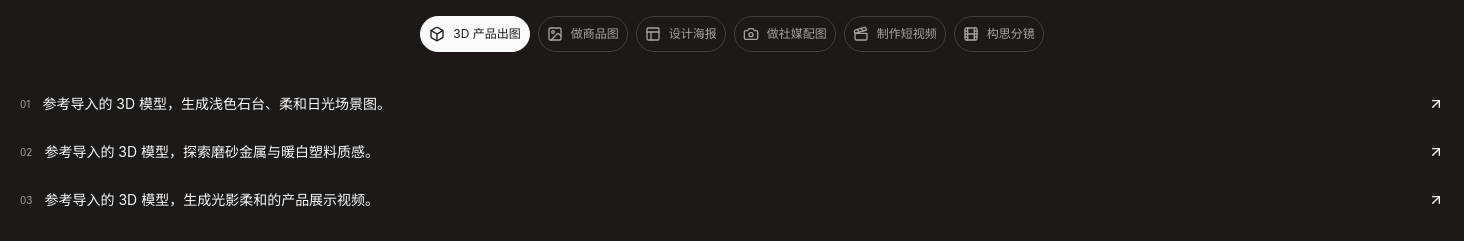
HomeCreationGuide › uses the fixed cross-scene recommendations after deselecting
The image size is (1464, 241).
Click the button "3D 产品出图".
click(475, 34)  # box x1=420 y1=16 x2=530 y2=52
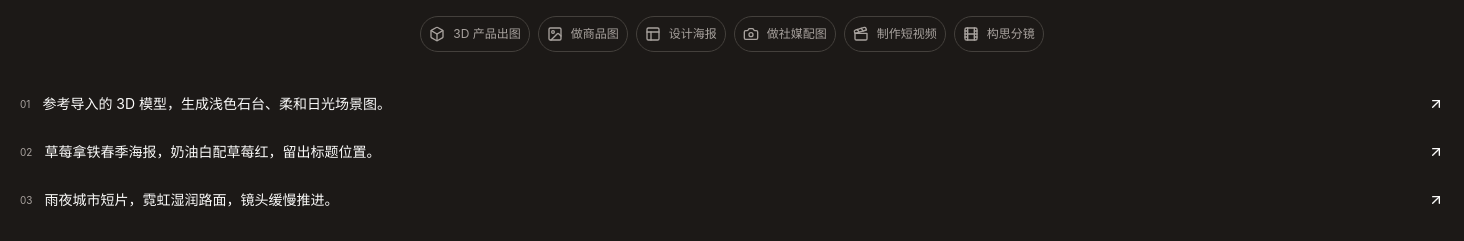
Expected: the button "01 参考导入的 3D 模型，生成浅色石台、柔和日光场景图。" is shown, x1=12 y1=80 x2=1452 y2=128
Expected: the button "02 草莓拿铁春季海报，奶油白配草莓红，留出标题位置。" is shown, x1=12 y1=128 x2=1452 y2=176
Expected: the button "03 雨夜城市短片，霓虹湿润路面，镜头缓慢推进。" is shown, x1=12 y1=176 x2=1452 y2=224
